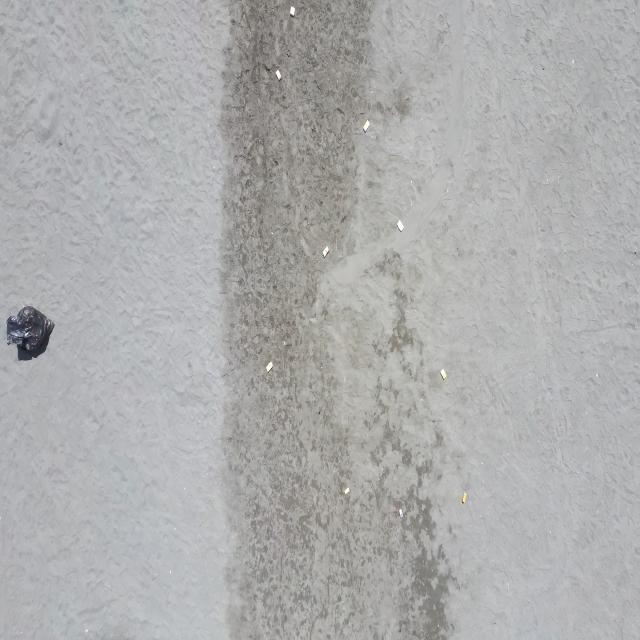retort-pouch: (440, 366, 448, 382), (362, 119, 370, 134), (396, 219, 404, 234), (265, 360, 273, 374), (288, 4, 296, 18), (322, 244, 329, 260), (276, 69, 282, 84), (344, 486, 351, 497), (398, 508, 404, 520), (461, 492, 467, 504)
